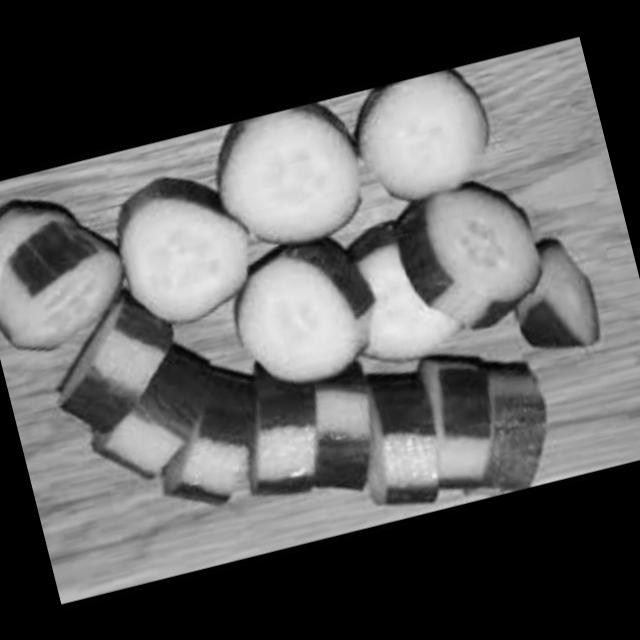dua chuot: (162, 360, 398, 543), (346, 339, 552, 525), (44, 300, 228, 490), (383, 162, 567, 352), (101, 165, 268, 356), (203, 96, 375, 268), (218, 232, 388, 403), (327, 211, 484, 384), (0, 182, 140, 373), (338, 64, 502, 226), (492, 228, 617, 370)
